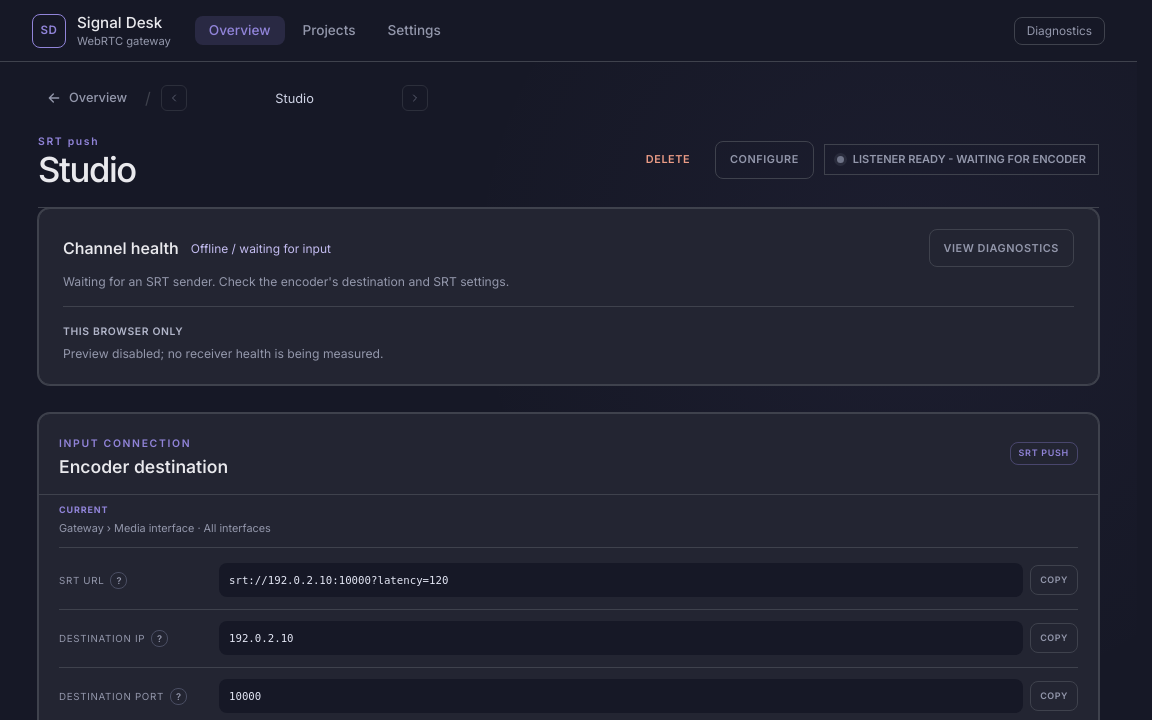
Test: dashboard navigation › sends the opening revision on PUT, retains conflicts, and reloads the latest channel
Click the button "Configure" at (764, 160), box [715,140,814,178]
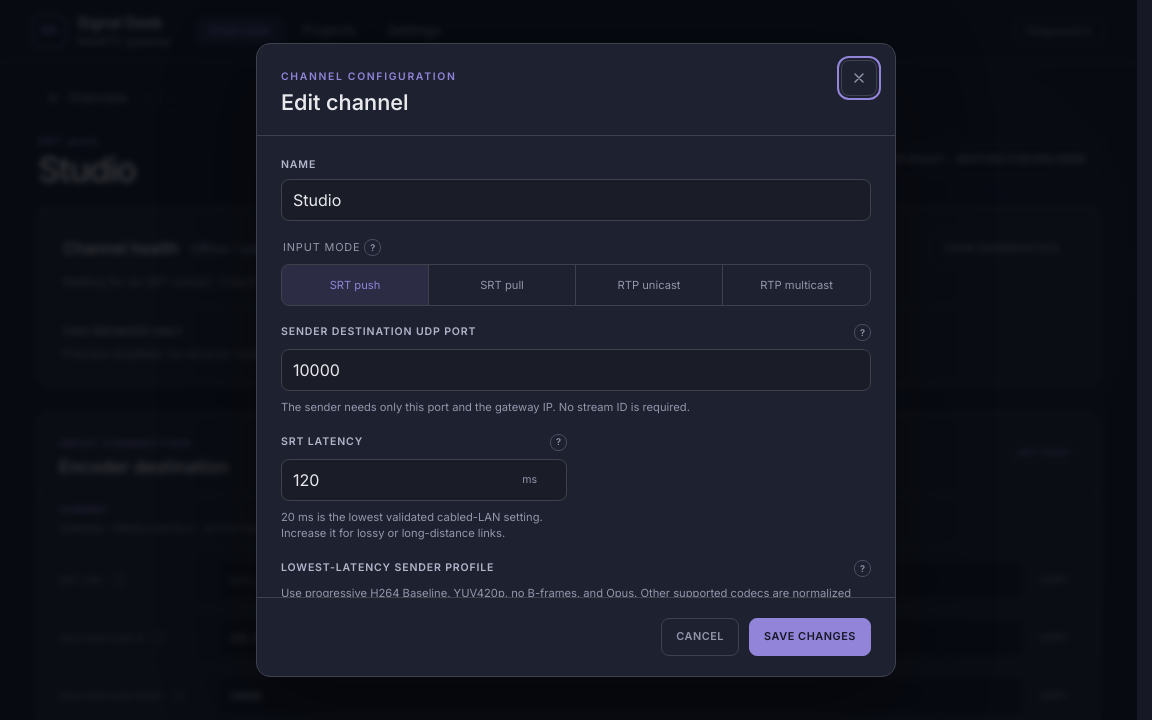
Replace the text in the field labelled "Name" with "My unsaved edit" at (576, 200), box [281,179,871,221]
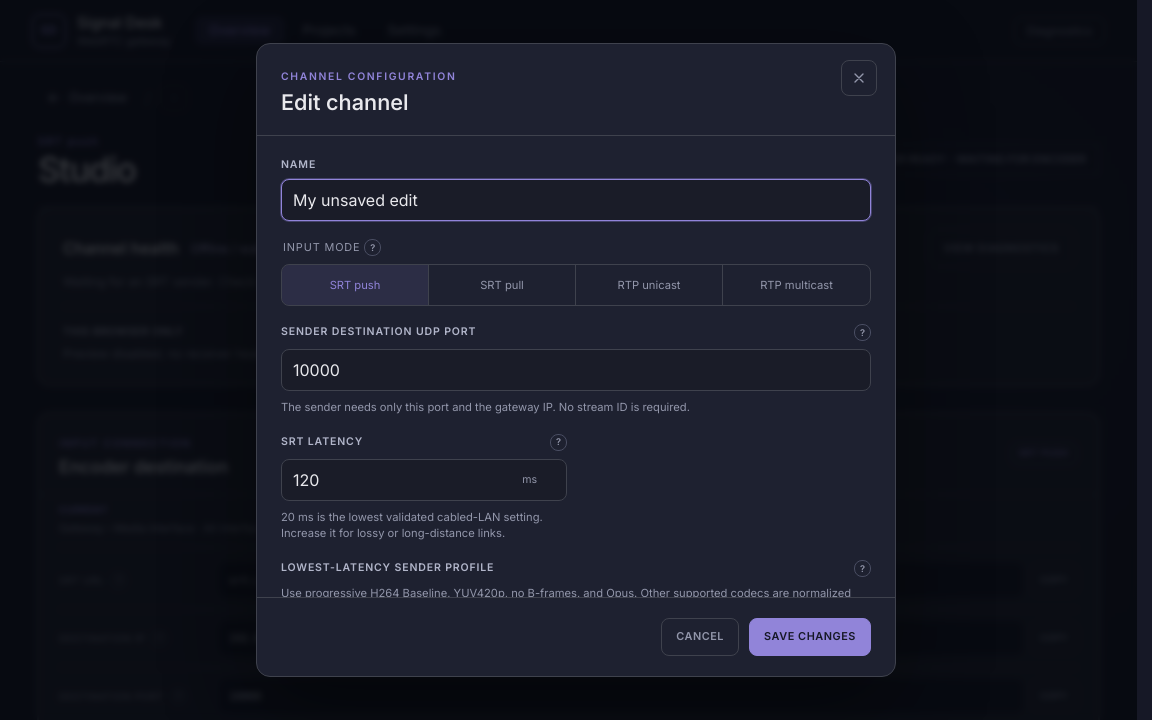
Click the button "Save changes" at (810, 637), box [749,618,871,656]
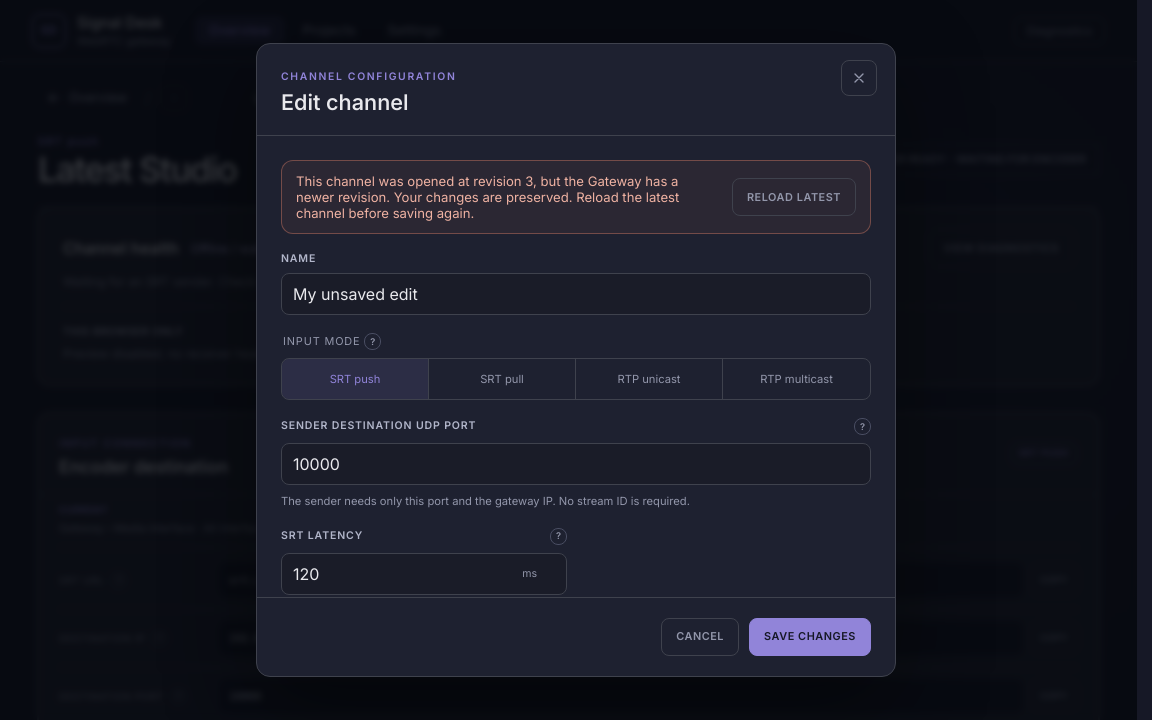
Check: the text "opened at revision 3" is shown, box [296,173,679,221]
Click the button "Reload latest" at (794, 197), box [732,178,856,216]
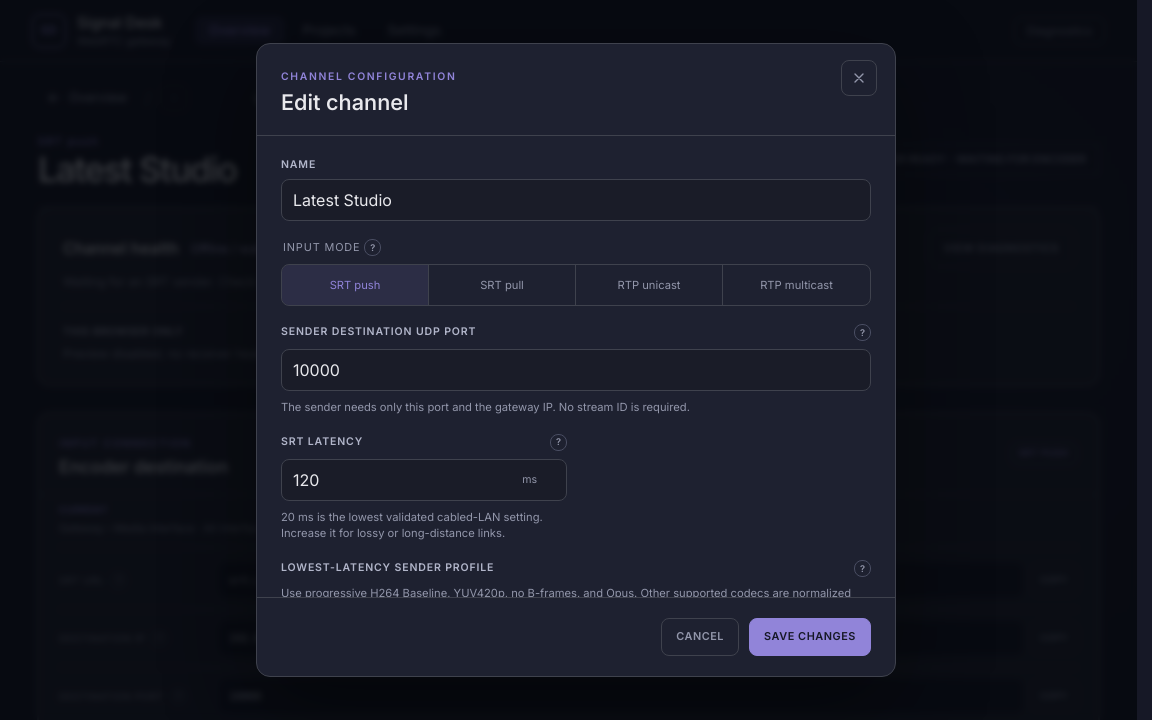
Check: the field labelled "Name" holds "Latest Studio", box [281,179,871,221]
